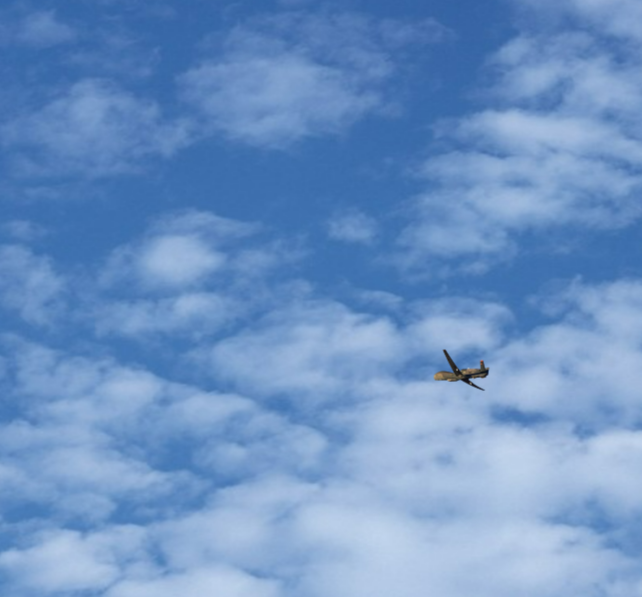military drone: (433, 348, 489, 391)
